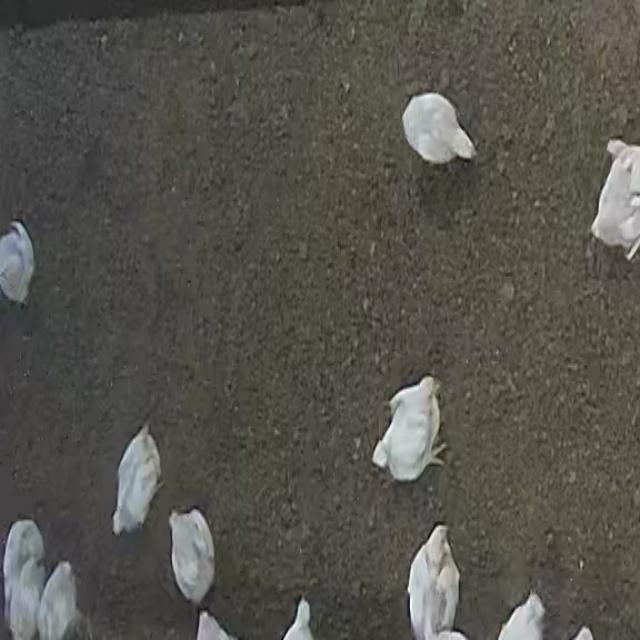chicken: (367, 372, 451, 486), (399, 87, 482, 175), (106, 421, 168, 537), (403, 522, 465, 636), (165, 505, 222, 604)
